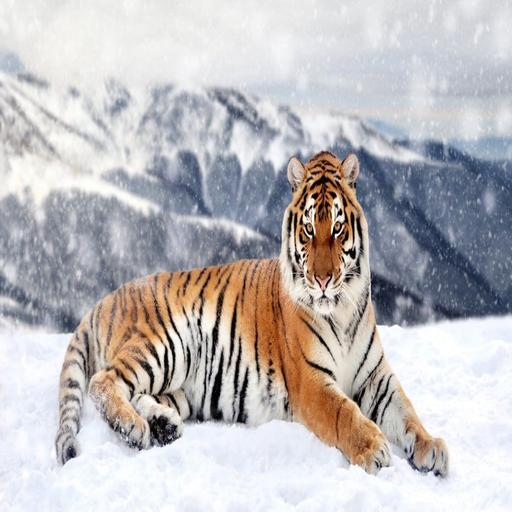Tiger: (44, 142, 463, 500)
